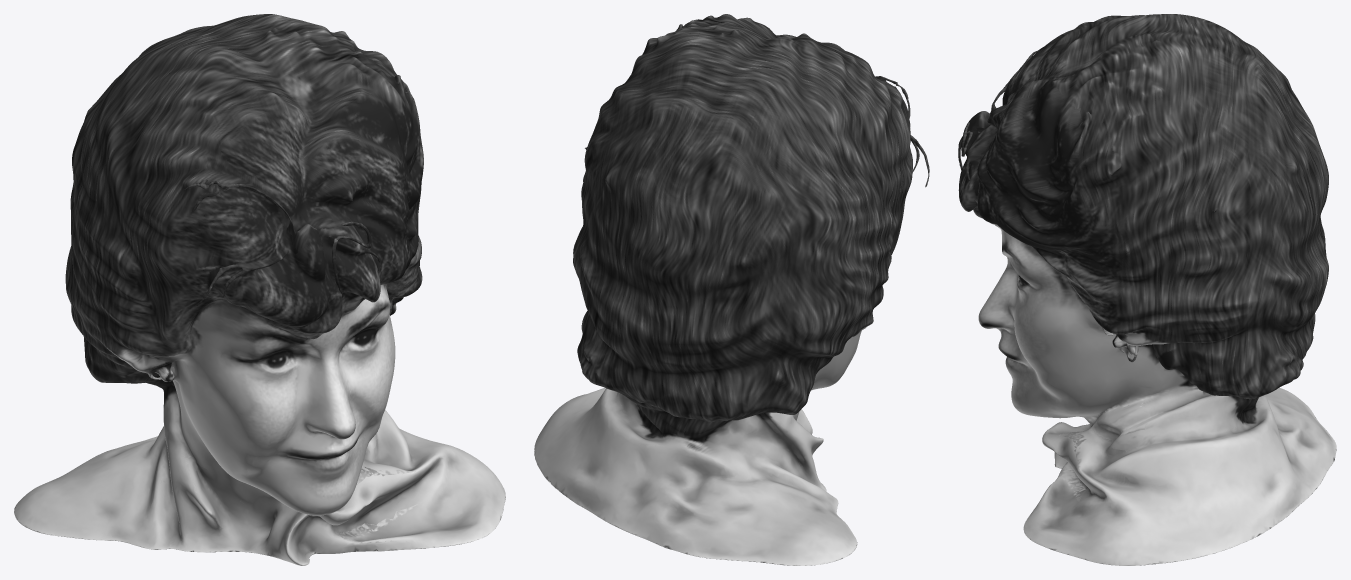
The model's file is face_3d_gray_3.glb.
The picture shows the model from 3 angles, left to right: view 1: azimuth 30°, elevation 25°; view 2: azimuth 150°, elevation 25°; view 3: azimuth 270°, elevation 25°; orthographic projection. The views are drawn at different scales.
Parts seen in each view (by area): view 1: face_3d; view 2: face_3d; view 3: face_3d.
Part boxes in pixels (x1,y1,x2,y2): face_3d: (14,14,505,565); face_3d: (534,14,929,565); face_3d: (958,14,1336,565).
Bounding box in the file's own units: 1.62 × 1.9 × 1.48.
1 material, 1 textured.
